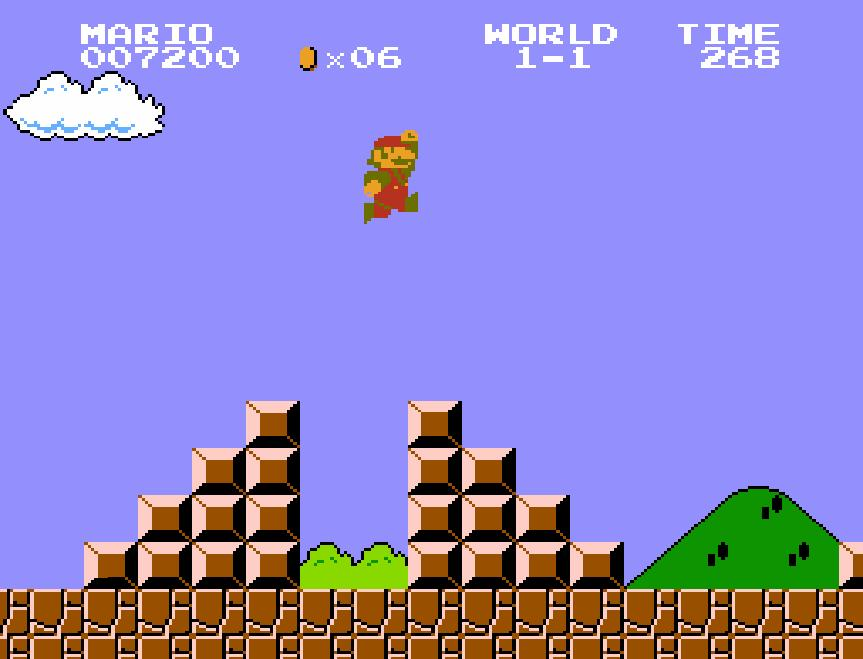big_mario: (362, 127, 420, 225)
